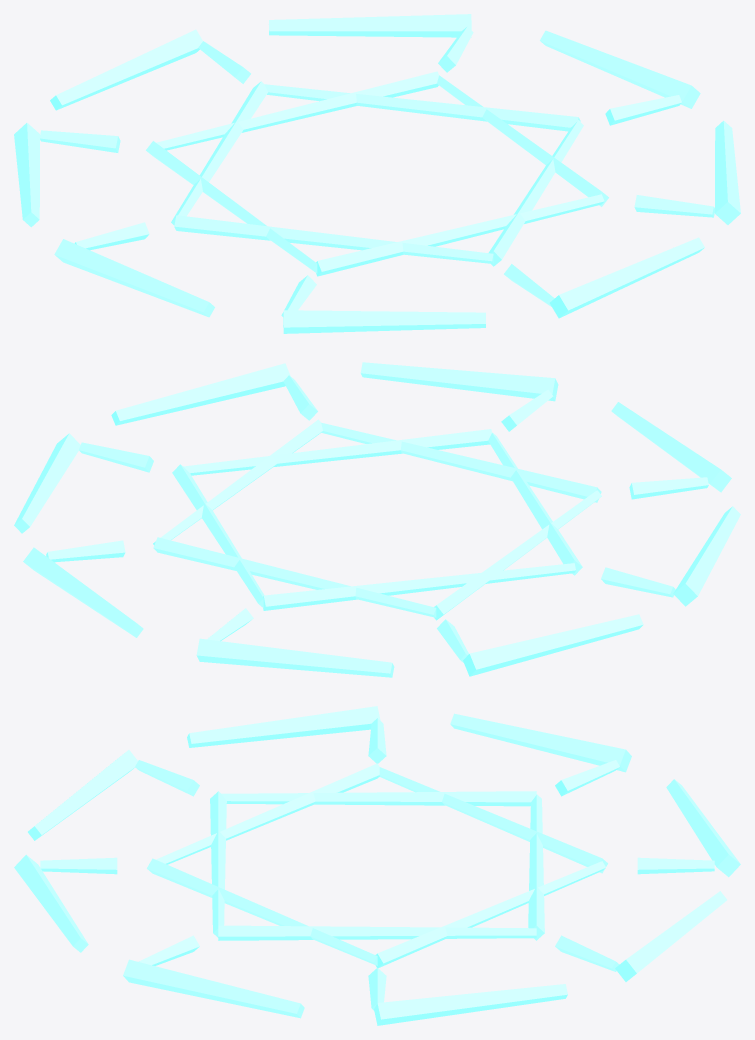
File: frost_glyph.glb
3 views of the same model, one above another, from view 1: azimuth 30°, elevation 25°; view 2: azimuth 150°, elevation 25°; view 3: azimuth 270°, elevation 25° (orthographic). The views are drawn at different scales.
Parts seen in each view (by area): view 1: frost_glyph; view 2: frost_glyph; view 3: frost_glyph.
Part boxes in pixels (box(x1,y1,x2,y2)): frost_glyph: box(14, 14, 740, 333); frost_glyph: box(14, 362, 740, 677); frost_glyph: box(14, 706, 740, 1025).
Bounding box in the file's own units: 1.03 × 0.036 × 1.03.
